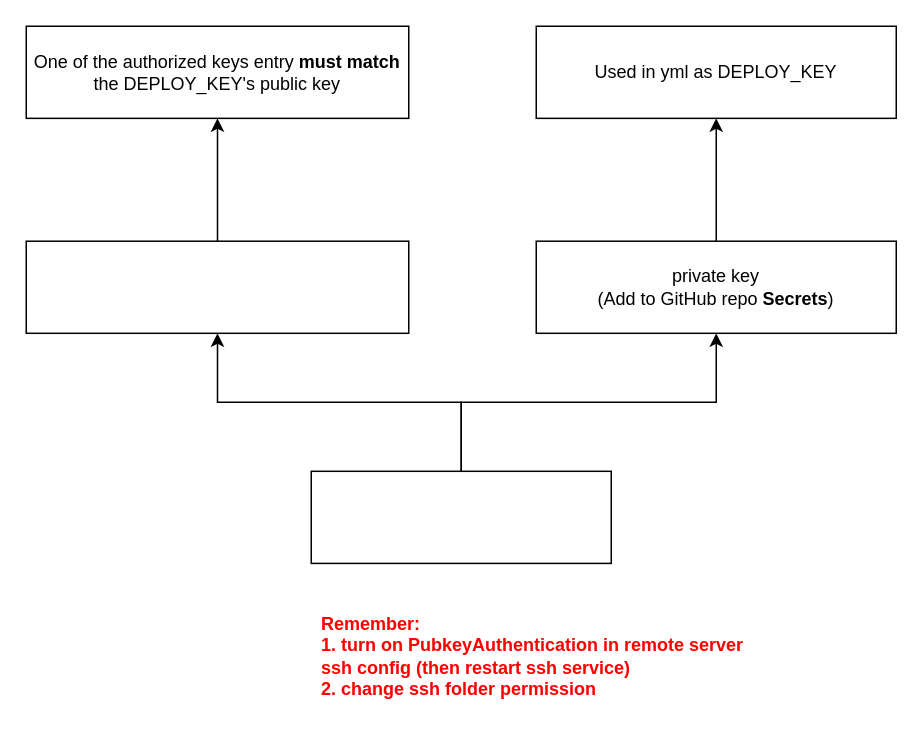
Image size: 923x743. Some labels were removed from this diagram. The shapes that lost their labels are listed below. From the top down, each one's centre as x and y in pixels, then its label:
At point 217,286: "public key (Add to authorized_keys on remote server)".
At point 460,516: "ssh-keygen (no matter which machine)".
